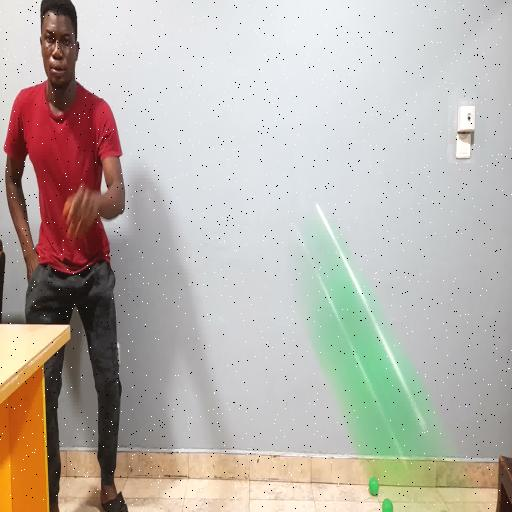plastic-ball: (286, 205, 452, 491)
